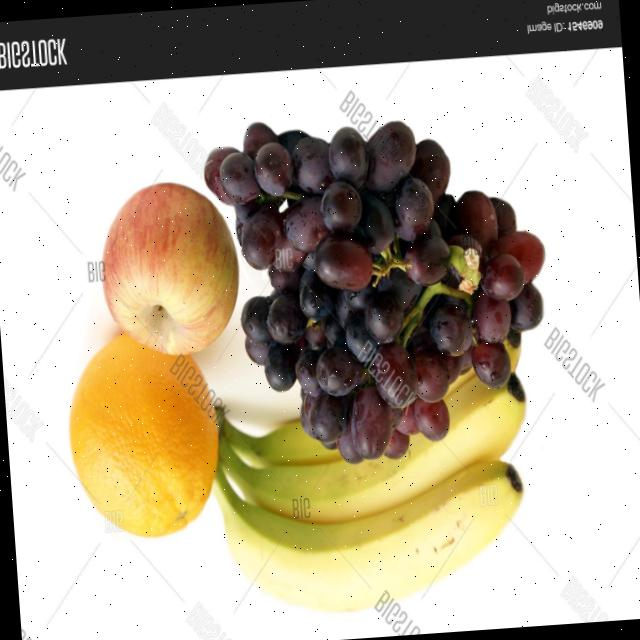Apel: (94, 178, 244, 361)
Jeruk: (61, 326, 226, 544)
Pisang: (202, 330, 540, 622)
